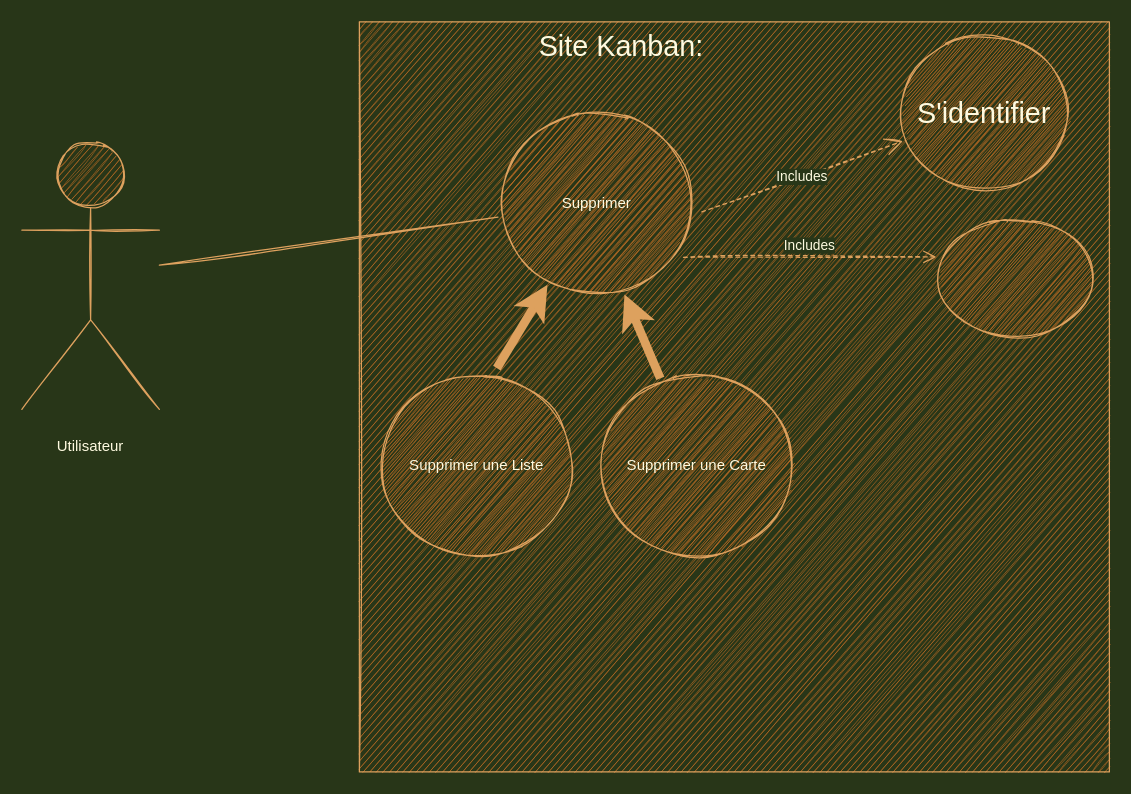
The diagram is 1131 pixels wide and 794 high, and some of its shapes have lost their labels. Here are the shapes that lost their labels. From the top down, the box of each, then its label:
(21, 139, 159, 409): Actor
(933, 221, 1097, 334): Valider le choix
